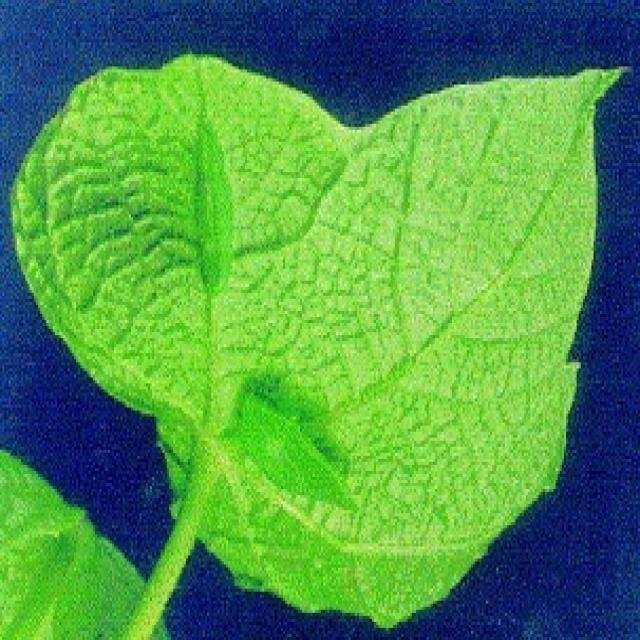Leaf Curl Virus: (110, 114, 501, 525)
